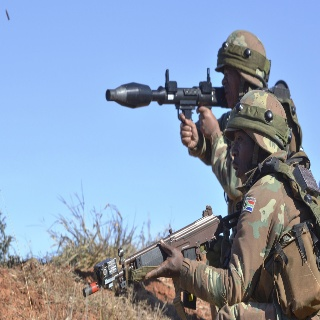rifle: (79, 202, 242, 313)
